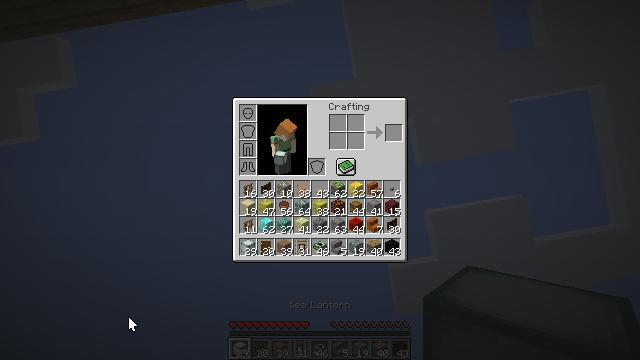cursor: (316, 128, 332, 138)
